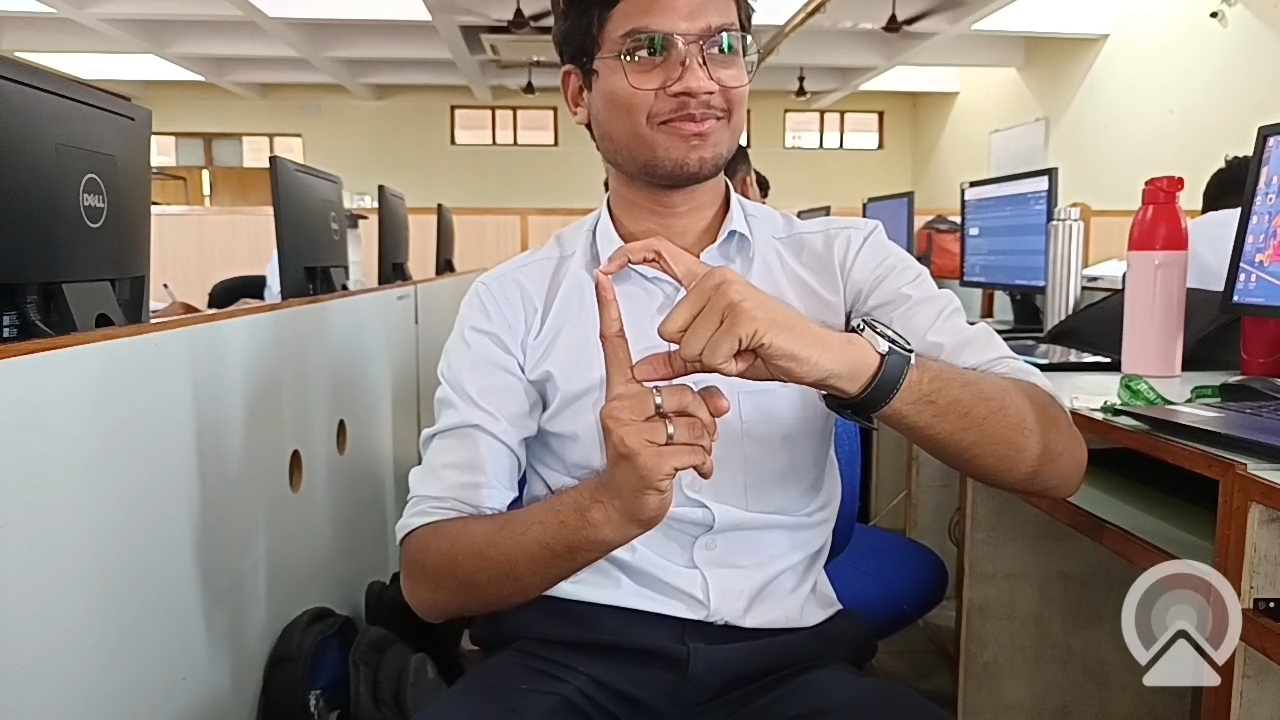D: (555, 233, 825, 415)
